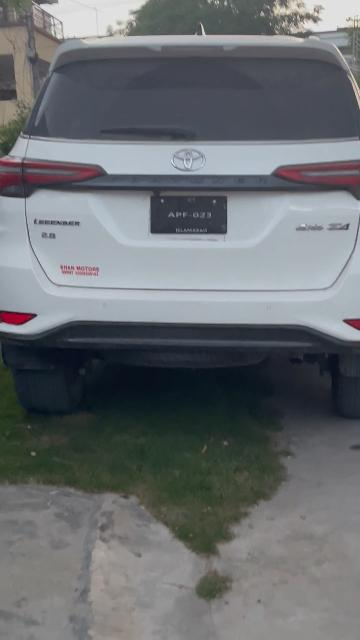plate: (151, 195, 227, 235)
